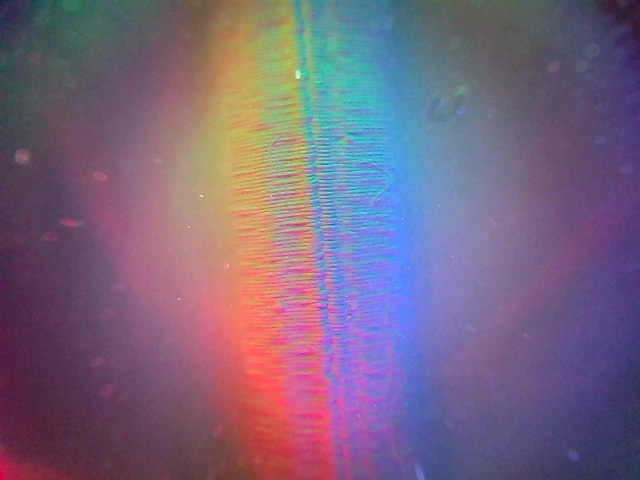contact: (208, 2, 434, 479)
